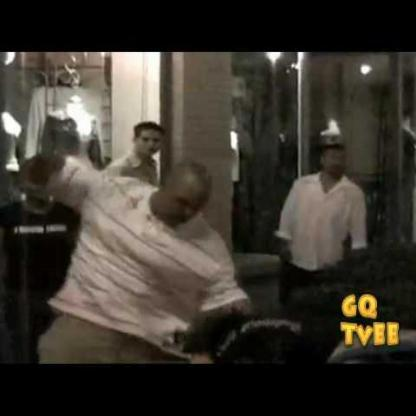face: (164, 173, 213, 227), (136, 124, 165, 160), (325, 147, 350, 181)
